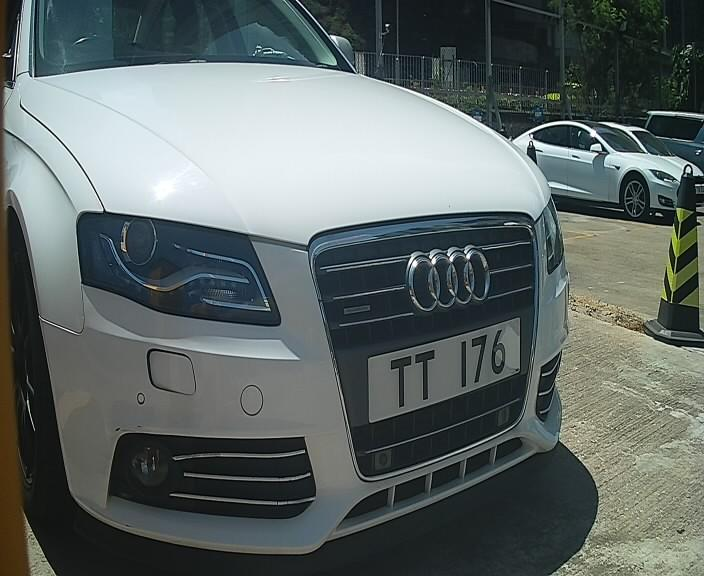privatecar: (10, 37, 601, 559)
